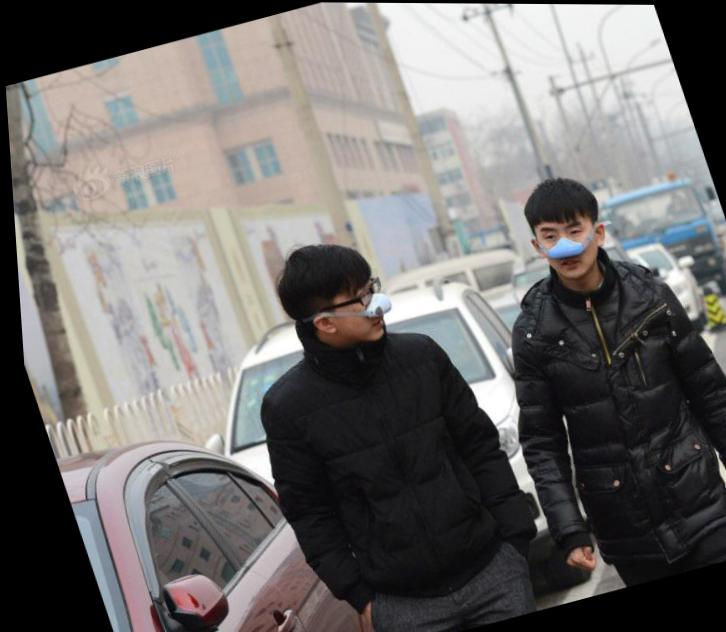WRONG: (309, 267, 399, 352), (530, 211, 605, 282)
